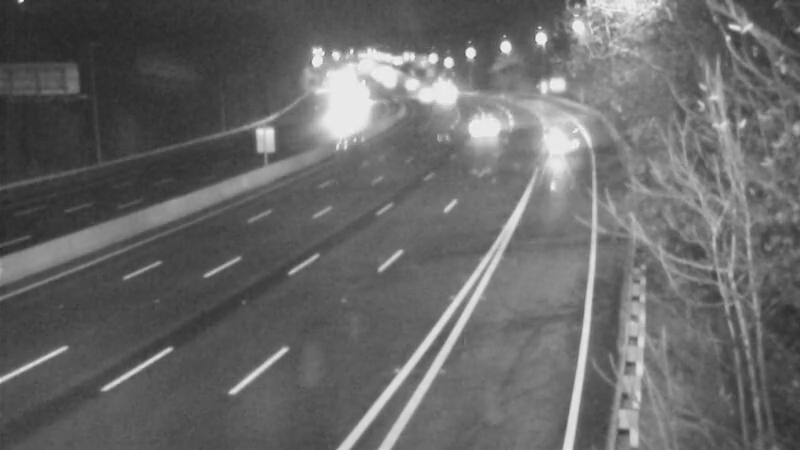vehicle: (400, 70, 450, 120), (424, 69, 474, 119), (454, 101, 504, 151), (533, 113, 583, 163)
